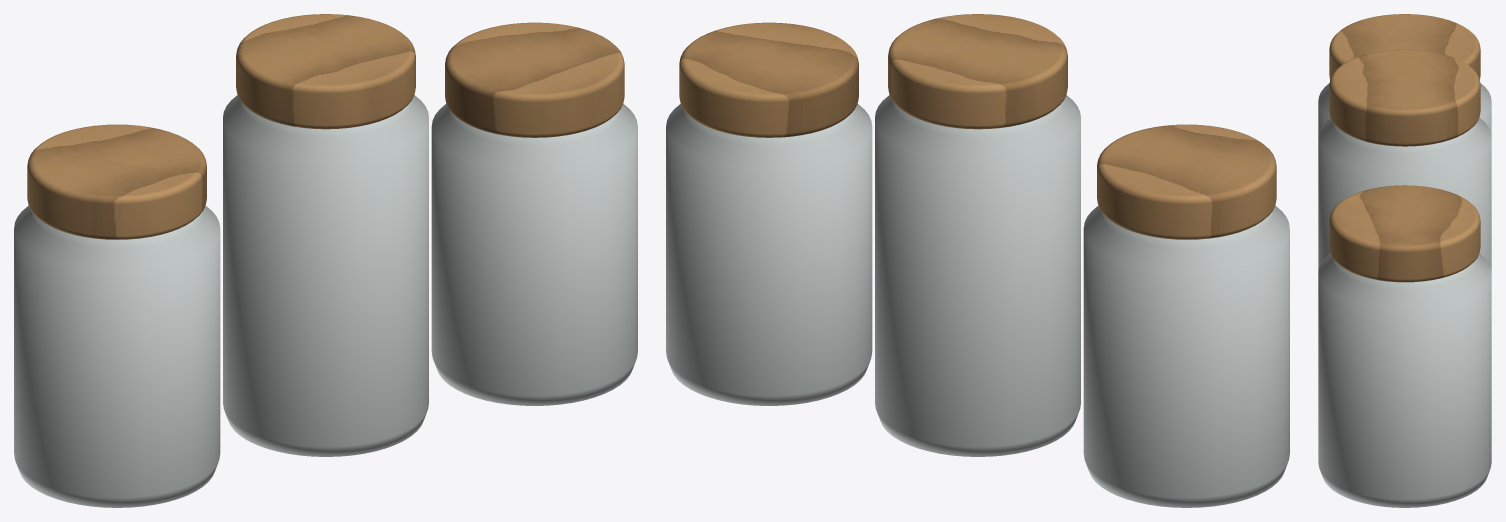
File: pantry-wood-lids.glb
3 renders of one model, left to right at view 1: azimuth 30°, elevation 25°; view 2: azimuth 150°, elevation 25°; view 3: azimuth 270°, elevation 25°, orthographic. The views are drawn at different scales.
Parts seen in each view (by area): view 1: jar_glass, wood_lid; view 2: jar_glass, wood_lid; view 3: jar_glass, wood_lid.
Part boxes in pixels (x1=…): jar_glass: x1=14, y1=95, x2=637, y2=507; wood_lid: x1=27, y1=14, x2=624, y2=239; jar_glass: x1=666, y1=95, x2=1289, y2=507; wood_lid: x1=679, y1=14, x2=1276, y2=239; jar_glass: x1=1318, y1=83, x2=1491, y2=507; wood_lid: x1=1329, y1=14, x2=1480, y2=282.
Bounding box in the file's own units: 0.314 × 0.184 × 0.094.
5 materials, 4 textured.
